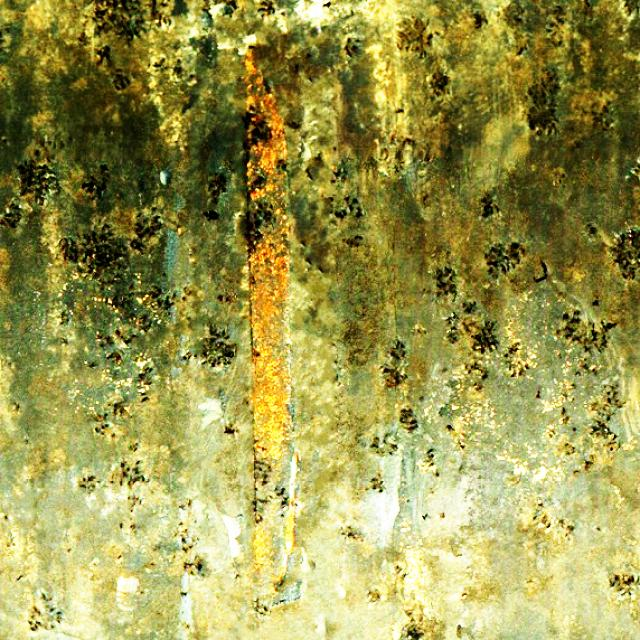Corrosion: (244, 47, 294, 598)
